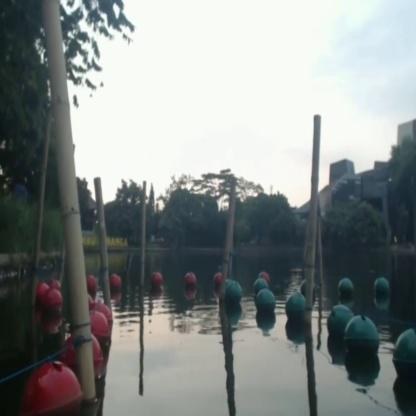green_buoy: (342, 316, 382, 368), (390, 328, 415, 386), (325, 304, 351, 340), (284, 292, 308, 326), (255, 288, 276, 320), (222, 279, 240, 313), (336, 274, 356, 303), (372, 275, 392, 302)
red_buoy: (25, 360, 86, 414), (90, 311, 112, 347), (42, 287, 62, 321), (148, 270, 162, 293), (183, 270, 197, 293), (86, 273, 99, 296), (110, 272, 122, 294)
